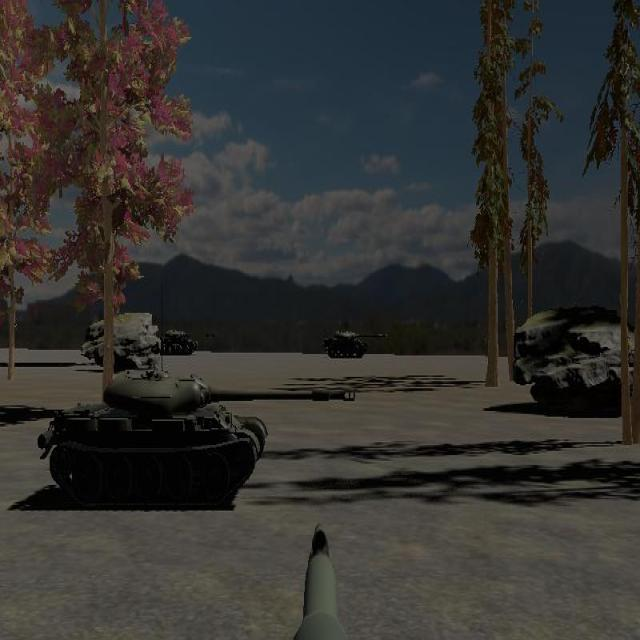Tank: (37, 371, 356, 510), (323, 327, 388, 360)
